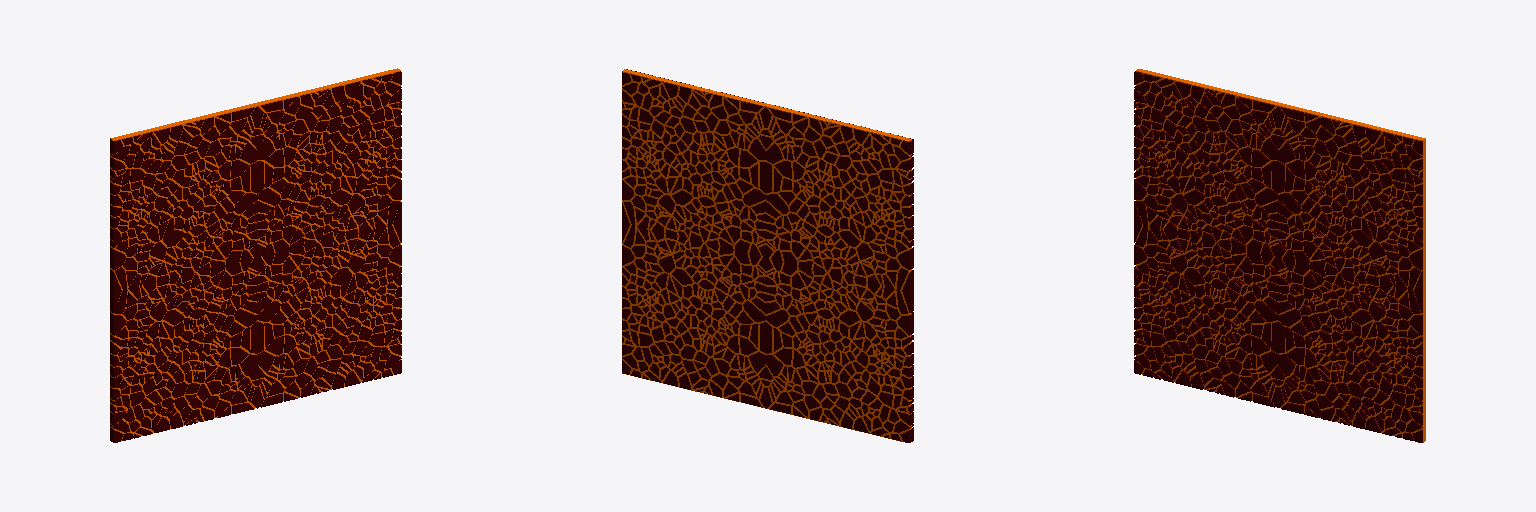
Rendered from tinker.obj.
3 renders of one model, left to right at view 1: azimuth 30°, elevation 25°; view 2: azimuth 150°, elevation 25°; view 3: azimuth 330°, elevation 25°, orthographic.
Parts seen in each view (by area): view 1: obj_0; view 2: obj_0; view 3: obj_0.
Boxes of the visible parts, <box> form: obj_0: <box>110,68,401,442</box>; obj_0: <box>622,69,913,442</box>; obj_0: <box>1134,69,1425,442</box>.
Bounding box in the file's own units: 621 × 623 × 16.